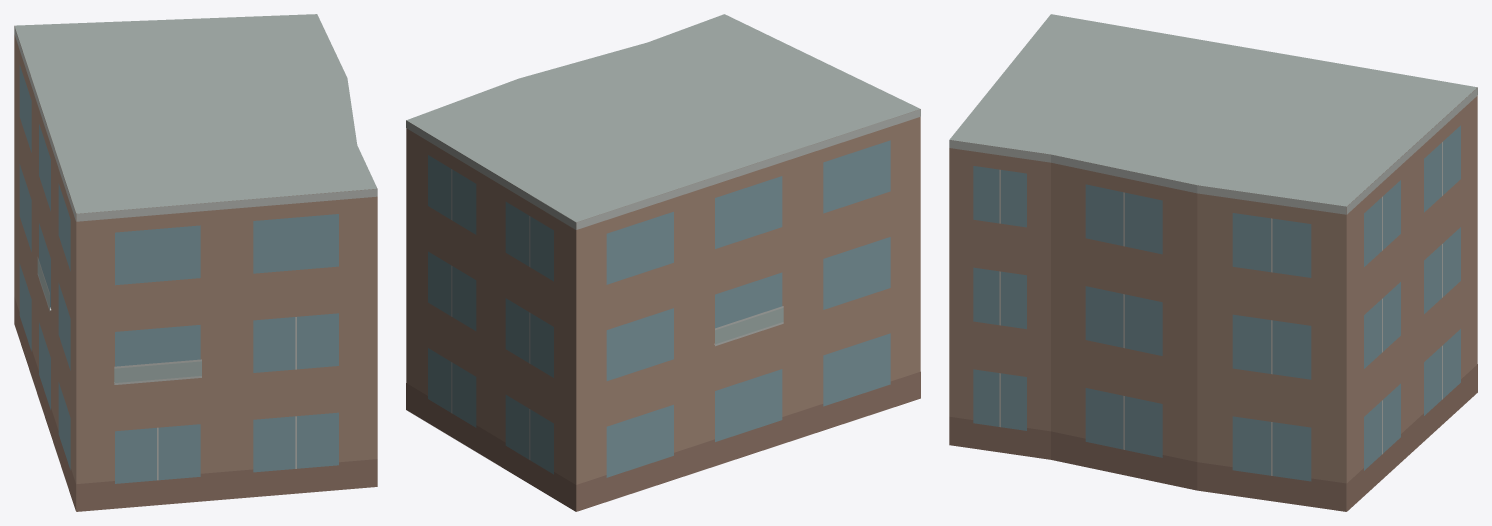
Rendered from survey-upis-32469704.glb.
3 views of the same model, side by side, from view 1: azimuth 30°, elevation 25°; view 2: azimuth 150°, elevation 25°; view 3: azimuth 270°, elevation 25° (orthographic). The views are drawn at different scales.
Parts seen in each view (by area): view 1: survey-upis-32469704.tmp; view 2: survey-upis-32469704.tmp; view 3: survey-upis-32469704.tmp.
Part boxes in pixels (box(x1,y1,x2,y2)): survey-upis-32469704.tmp: box(14, 14, 377, 511); survey-upis-32469704.tmp: box(406, 14, 920, 511); survey-upis-32469704.tmp: box(949, 14, 1477, 511).
Size of the model in its own units: 12.32 by 9.1 by 14.29.
